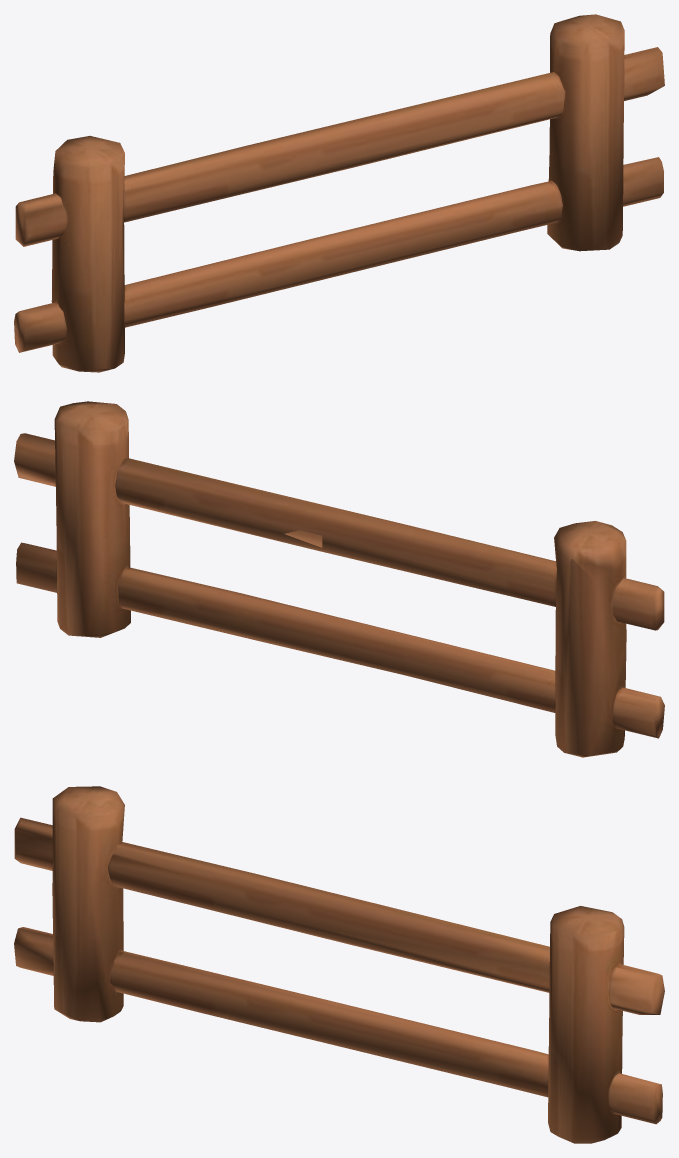
File: fence_rail_3.glb
The picture shows the model from 3 angles, top to bottom: view 1: azimuth 30°, elevation 25°; view 2: azimuth 150°, elevation 25°; view 3: azimuth 330°, elevation 25°; orthographic projection.
Visible parts, largest first — view 1: ЦІЛЬ; view 2: ЦІЛЬ; view 3: ЦІЛЬ.
Boxes of the visible parts, <box> form: ЦІЛЬ: <box>14,14,664,372</box>; ЦІЛЬ: <box>14,401,664,757</box>; ЦІЛЬ: <box>14,786,664,1143</box>.
Size of the model in its own units: 0.999 by 0.3199 by 0.0974.
1 material, 1 textured.
